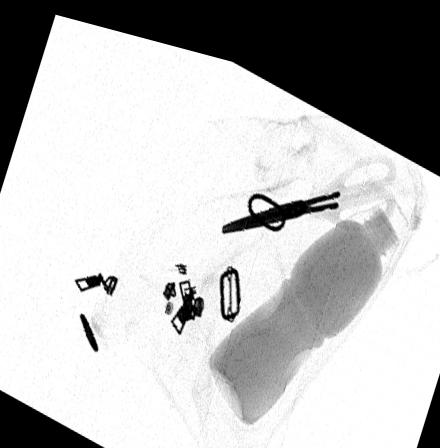Scissors: (219, 135, 397, 222)
